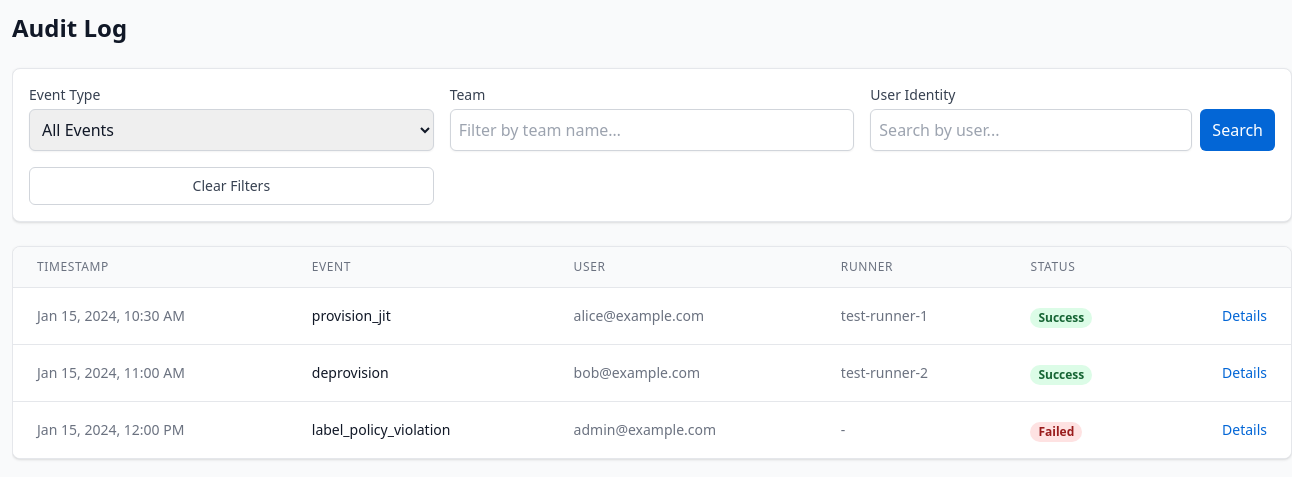
it: AuditLog › clears all filters when Clear Filters is clicked
# Set some filters
Select "Provision JIT" in the dropdown at (231, 130), box [29,109,434,151]
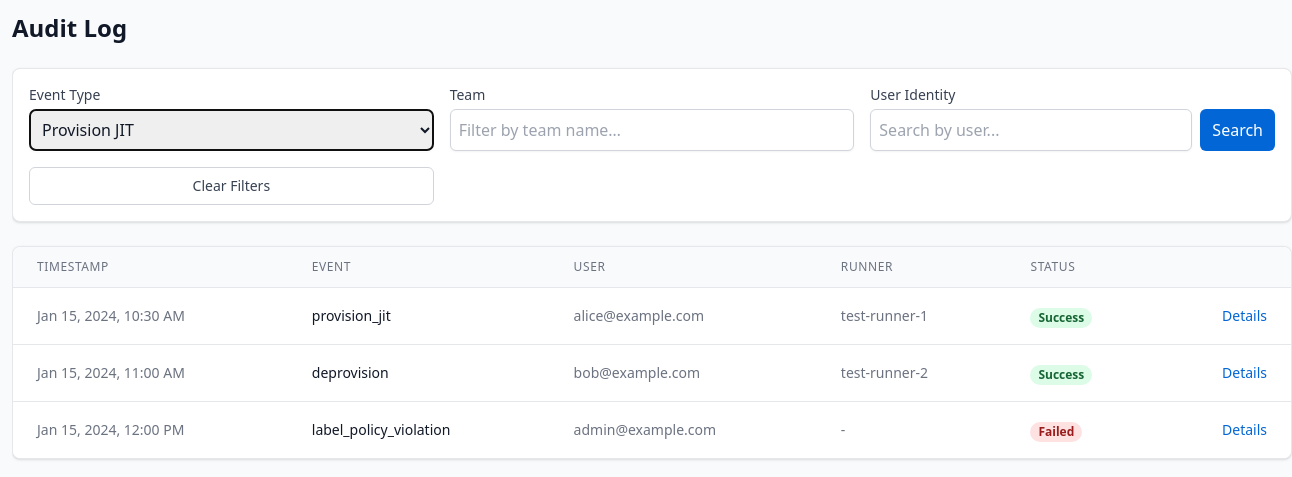
Type "alice@example.com" into the field with placeholder "Search by user...".
click(1031, 130); type("alice@example.com")  # box [870,109,1192,151]
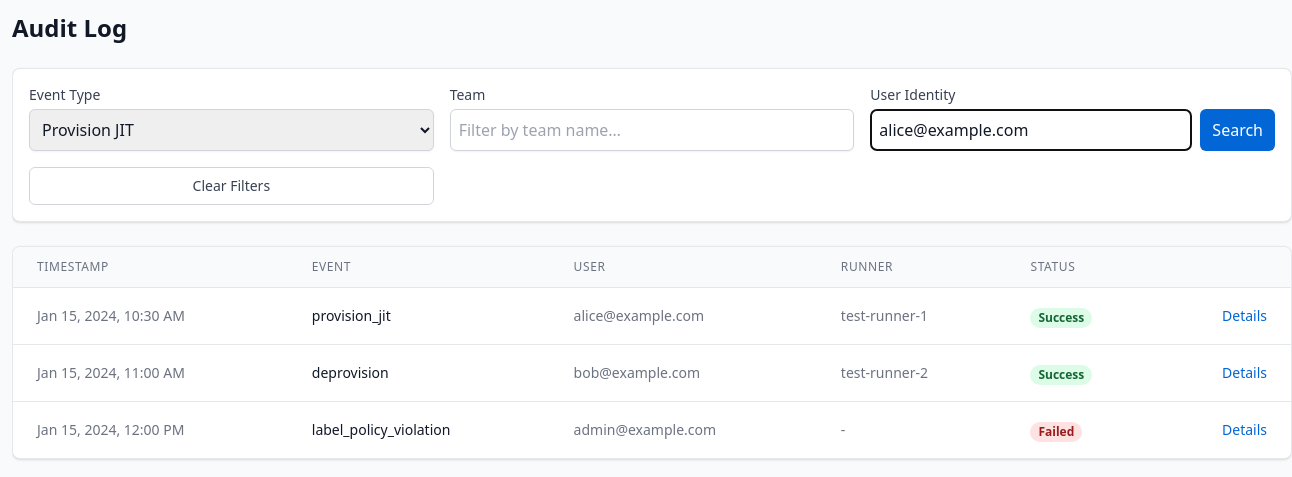
# Clear filters
Click the button "Clear Filters".
click(231, 186)  # box [29,167,434,205]
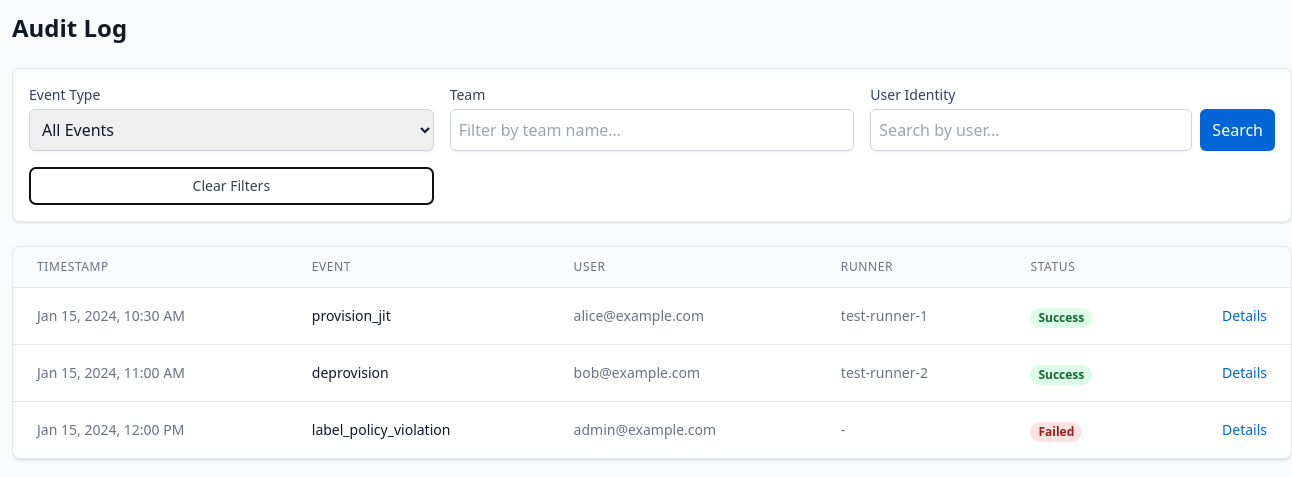
Now the field with placeholder "Search by user..." is empty, box [870,109,1192,151]
